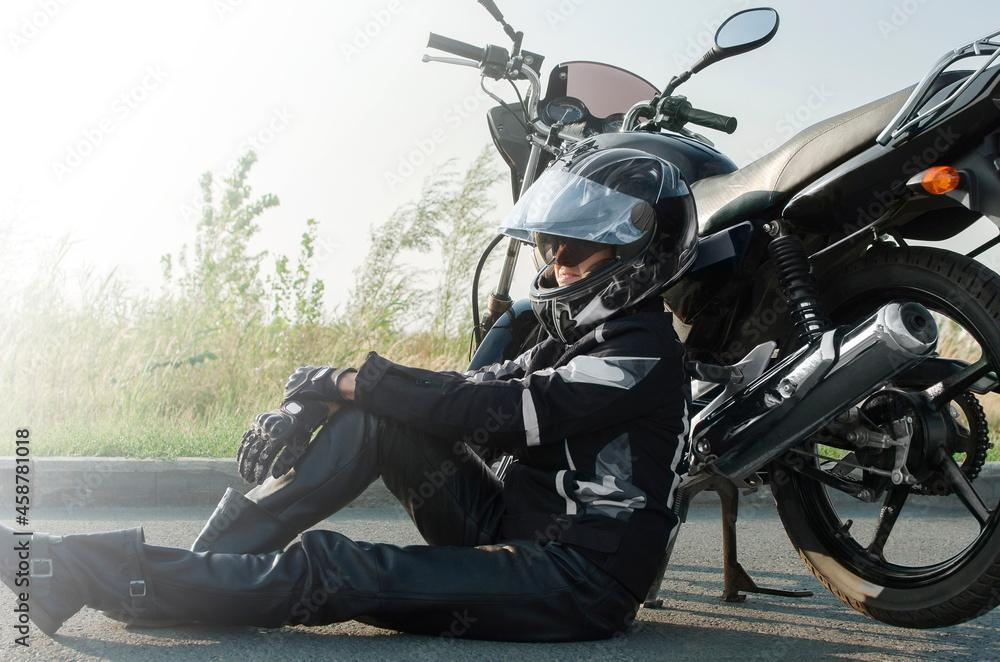helmet: (497, 147, 700, 345)
